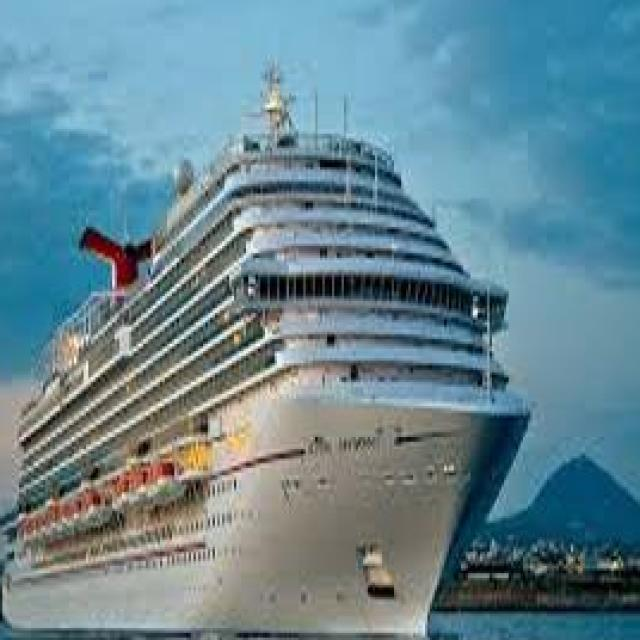passenger ship: (0, 86, 530, 638)
